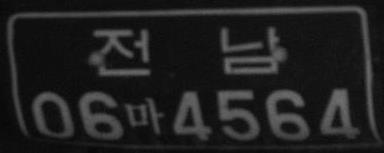0: (30, 91, 74, 139)
4: (319, 86, 361, 140), (171, 90, 212, 141)
5: (215, 89, 260, 141)
6: (265, 88, 310, 141), (77, 90, 124, 140)
마: (125, 96, 164, 134)
전남_D: (92, 25, 280, 78)
